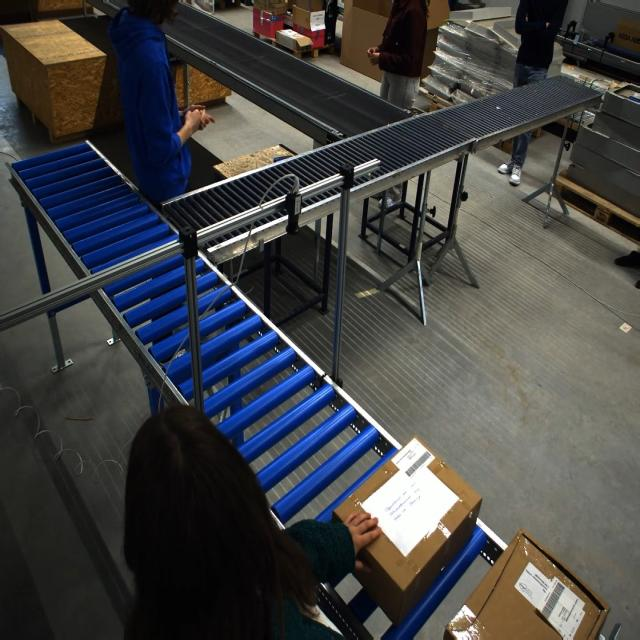box: (329, 435, 482, 623), (443, 527, 609, 640)
